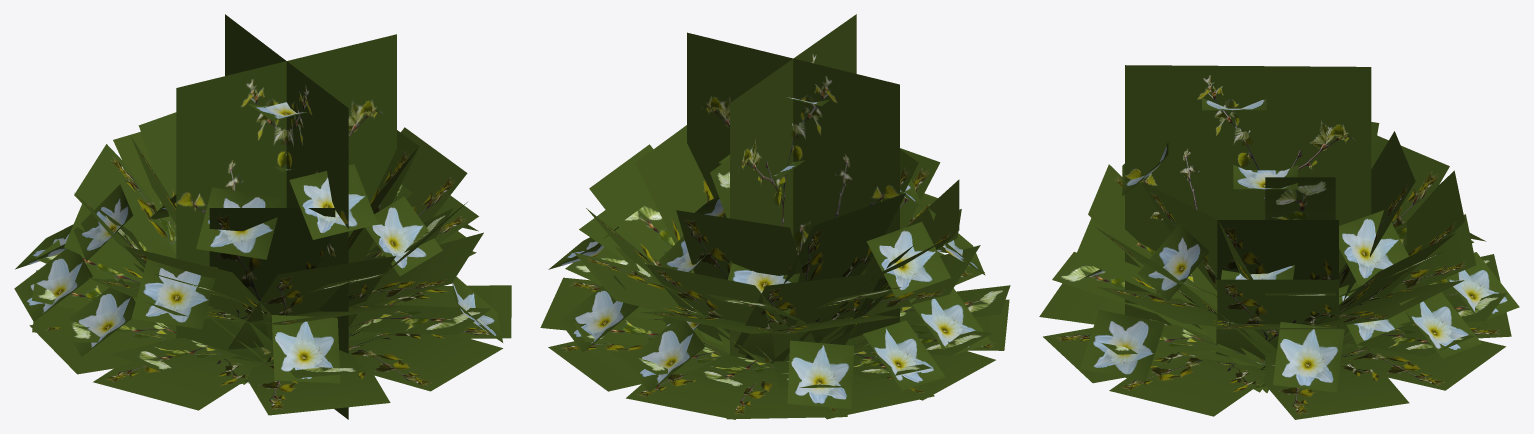
Rendered from bush1.FBX.
3 renders of one model, left to right at view 1: azimuth 30°, elevation 25°; view 2: azimuth 150°, elevation 25°; view 3: azimuth 270°, elevation 25°, orthographic. The views are drawn at different scales.
Parts seen in each view (by area): view 1: Box001; view 2: Box001; view 3: Box001.
Boxes of the visible parts, x1,y1,x2,y2 form: Box001: [14, 14, 511, 419]; Box001: [540, 14, 1010, 419]; Box001: [1039, 65, 1519, 419].
Size of the model in its own units: 4.76 by 3.35 by 4.83.
